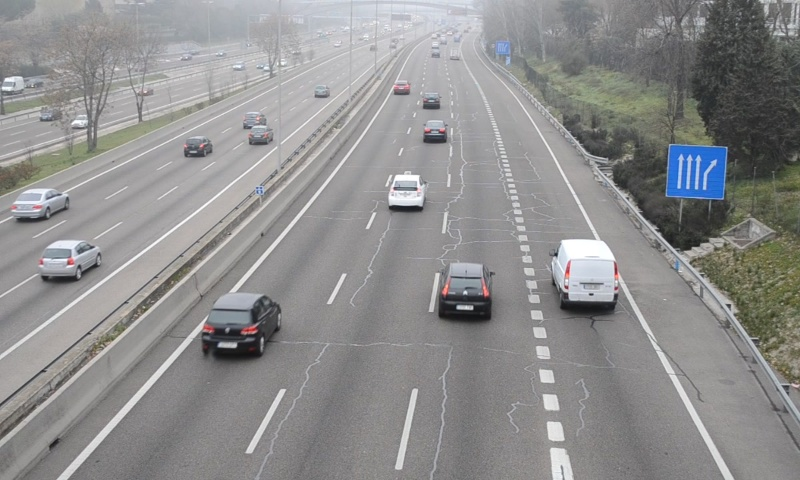car: (202, 292, 280, 355), (439, 262, 490, 319), (390, 174, 424, 208), (423, 118, 447, 144), (422, 90, 441, 110), (392, 80, 408, 96)
van: (554, 239, 618, 308)
